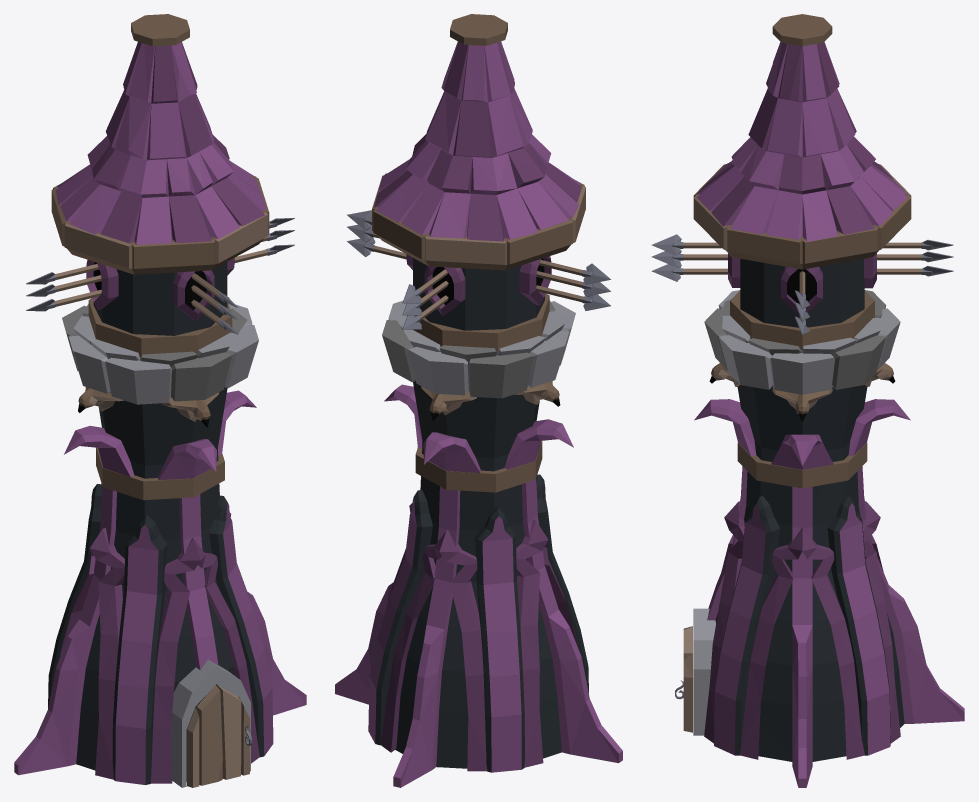
Rendered from Archer_LVL3.fbx.
The picture shows the model from 3 angles, left to right: view 1: azimuth 30°, elevation 25°; view 2: azimuth 150°, elevation 25°; view 3: azimuth 270°, elevation 25°; orthographic projection. The views are drawn at different scales.
Visible parts, largest first — view 1: archer_tower_LVL_3, archer_tower_LVL_3.002; view 2: archer_tower_LVL_3, archer_tower_LVL_3.002; view 3: archer_tower_LVL_3, archer_tower_LVL_3.002.
Boxes of the visible parts, x1,y1,x2,y2 form: archer_tower_LVL_3: [14, 14, 306, 787]; archer_tower_LVL_3.002: [26, 217, 294, 335]; archer_tower_LVL_3: [335, 14, 622, 787]; archer_tower_LVL_3.002: [347, 210, 610, 330]; archer_tower_LVL_3: [675, 14, 964, 787]; archer_tower_LVL_3.002: [651, 234, 953, 334].
Size of the model in its own units: 639 by 1507 by 617.
